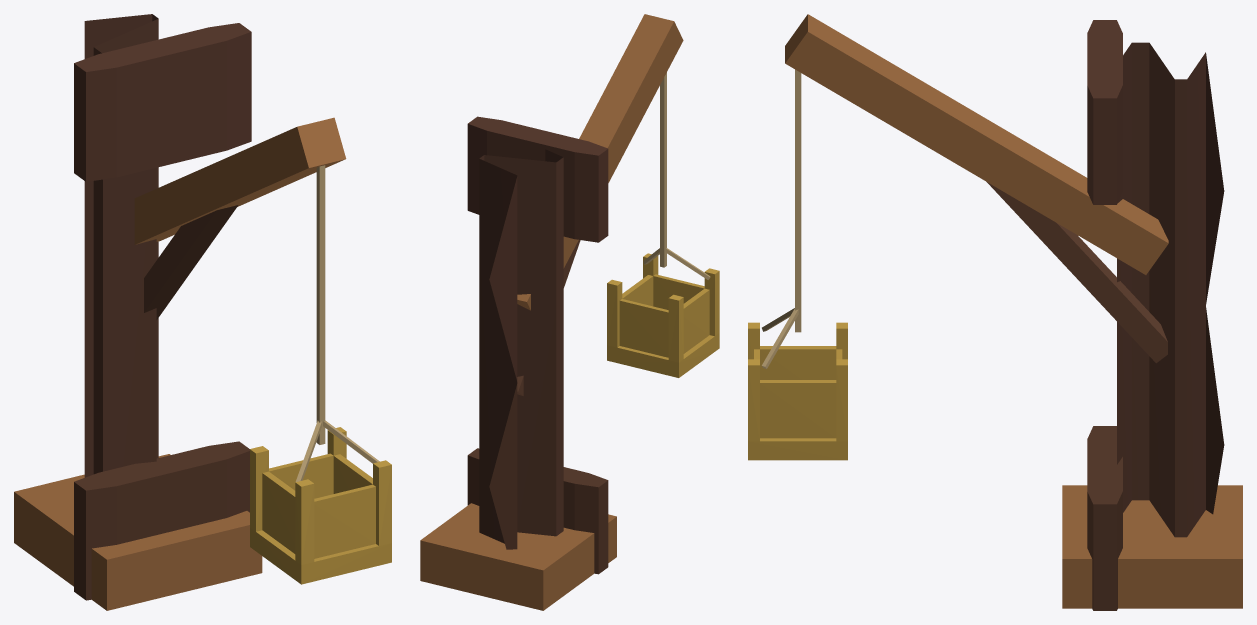
Rendered from dock-crane.glb.
The picture shows the model from 3 angles, left to right: view 1: azimuth 30°, elevation 25°; view 2: azimuth 150°, elevation 25°; view 3: azimuth 270°, elevation 25°; orthographic projection. The views are drawn at different scales.
Visible parts, largest first — view 1: dock-crane; view 2: dock-crane; view 3: dock-crane.
Part boxes in pixels (<box>): dock-crane: <box>14,14,391,610</box>; dock-crane: <box>420,14,719,610</box>; dock-crane: <box>748,14,1242,610</box>.
Size of the model in its own units: 1.15 by 3.76 by 3.07.
